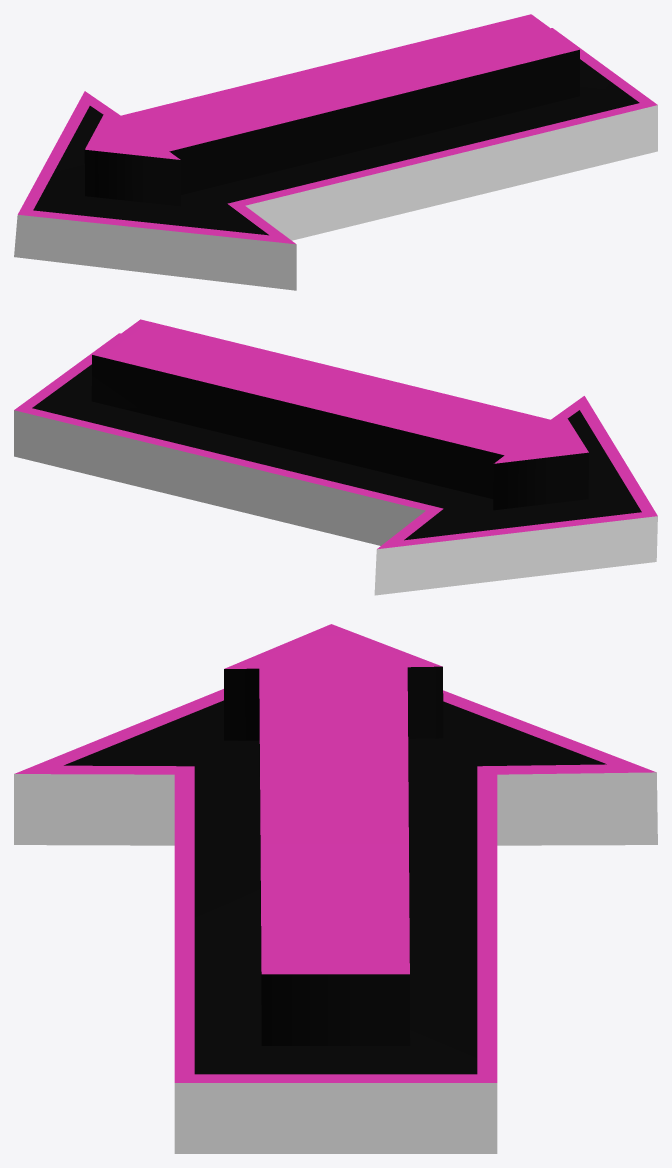
The model's file is arrow2.glb.
3 renders of one model, top to bottom at view 1: azimuth 30°, elevation 25°; view 2: azimuth 150°, elevation 25°; view 3: azimuth 270°, elevation 25°, orthographic. The views are drawn at different scales.
Visible parts, largest first — view 1: arrow.001; view 2: arrow.001; view 3: arrow.001.
Part boxes in pixels (box(x1,y1,x2,y2)): arrow.001: box(14, 14, 657, 290); arrow.001: box(14, 319, 657, 595); arrow.001: box(14, 624, 657, 1153).
Size of the model in its own units: 10.16 by 1.53 by 6.26.
